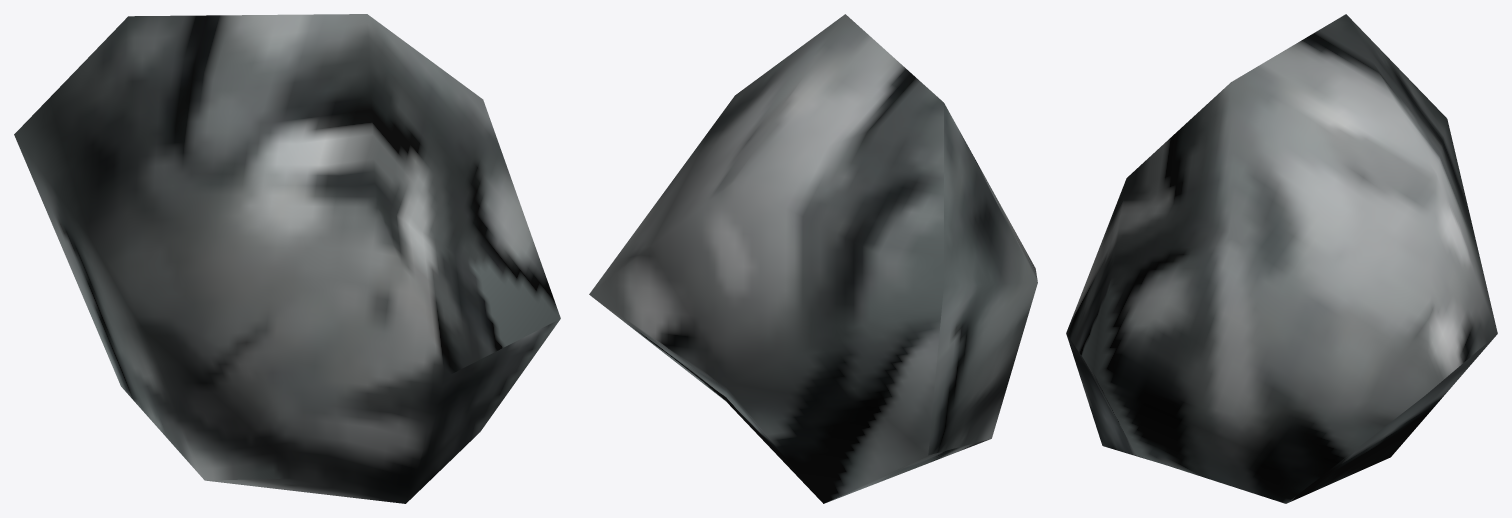
The model's file is PRP_BouldersF.fbx.
3 views of the same model, side by side, from view 1: azimuth 30°, elevation 25°; view 2: azimuth 150°, elevation 25°; view 3: azimuth 270°, elevation 25° (orthographic). The views are drawn at different scales.
Parts seen in each view (by area): view 1: PRP_BouldersF; view 2: PRP_BouldersF; view 3: PRP_BouldersF.
Boxes of the visible parts, x1,y1,x2,y2 form: PRP_BouldersF: [14, 14, 560, 503]; PRP_BouldersF: [589, 14, 1037, 503]; PRP_BouldersF: [1066, 14, 1497, 503].
Size of the model in its own units: 50.14 by 56.18 by 52.64.
1 material, 1 textured.
